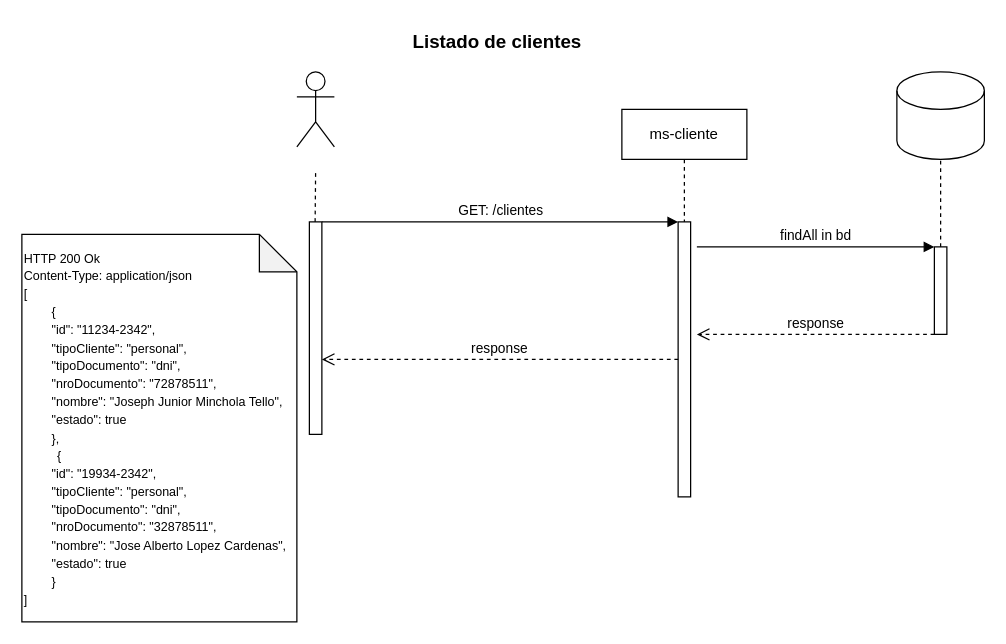
Image size: 1006x644. Some labels were removed from this diagram. Each missing label, with the box of its shape:
Cliente: (296, 71, 334, 147)
MongoDb: (896, 71, 984, 159)
